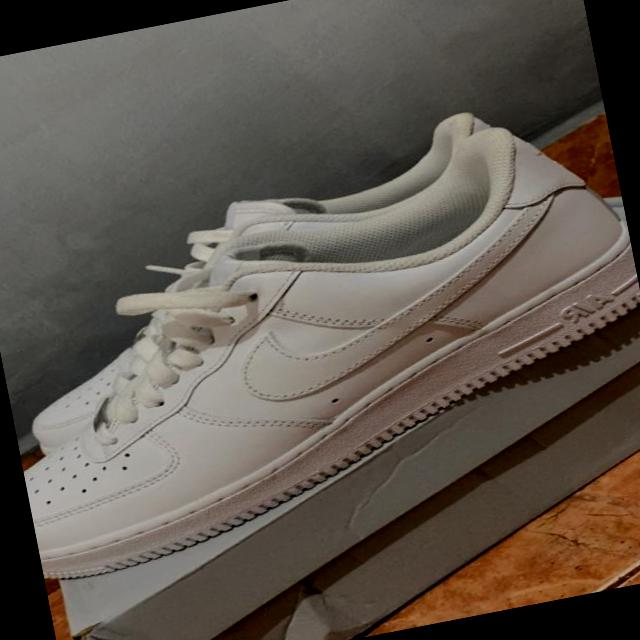nike_original_airforce: (0, 104, 640, 587)
